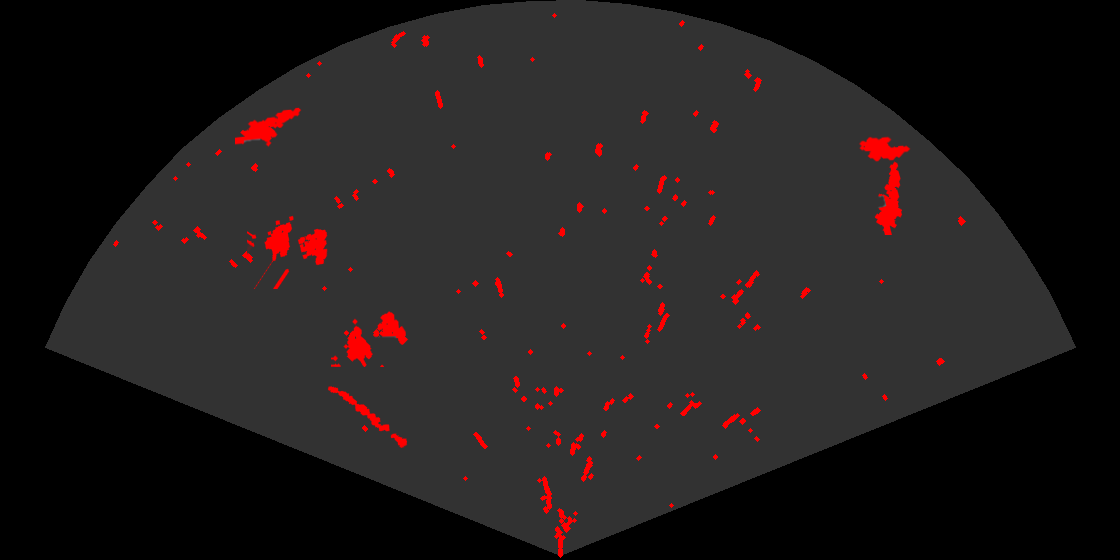AUV: (857, 135, 912, 163)
cage: (247, 214, 329, 289), (331, 310, 410, 367)
chain: (326, 385, 409, 450)
frogman: (235, 106, 303, 149), (873, 160, 904, 235)
